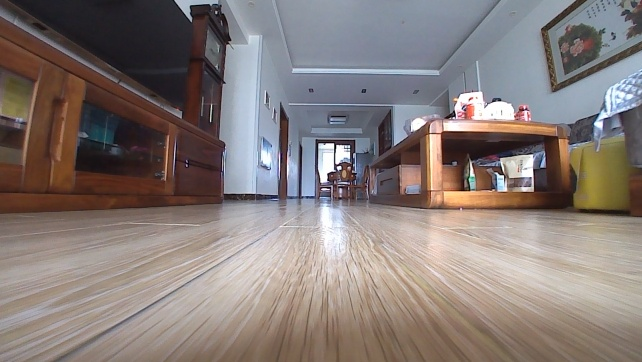TV_stand: (0, 13, 228, 219)
dining_table: (313, 160, 369, 201)
tea_table: (364, 114, 574, 211)
